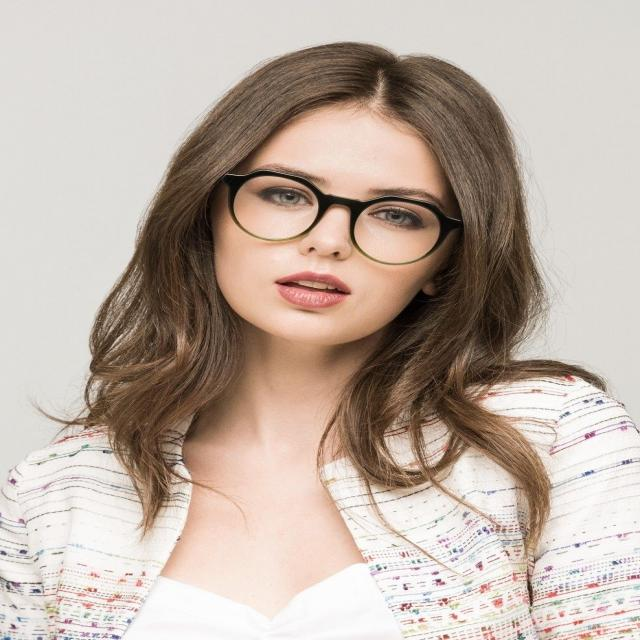Glasses: (222, 165, 460, 268)
